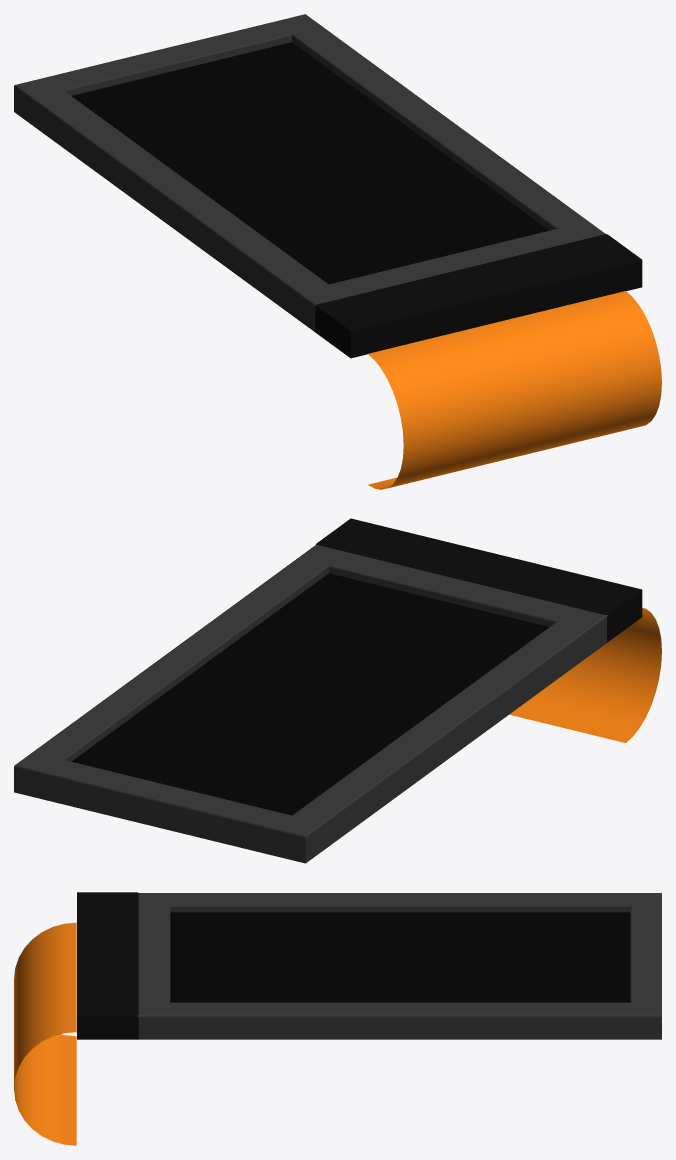
The model's file is disp.obj.
The picture shows the model from 3 angles, top to bottom: view 1: azimuth 30°, elevation 25°; view 2: azimuth 150°, elevation 25°; view 3: azimuth 270°, elevation 25°; orthographic projection. The views are drawn at different scales.
Visible parts, largest first — view 1: Cube; view 2: Cube; view 3: Cube.
Boxes of the visible parts, x1,y1,x2,y2 form: Cube: [14, 14, 661, 489]; Cube: [14, 518, 661, 863]; Cube: [14, 892, 661, 1145].
Size of the model in its own units: 0.014 by 0.00723 by 0.031.
